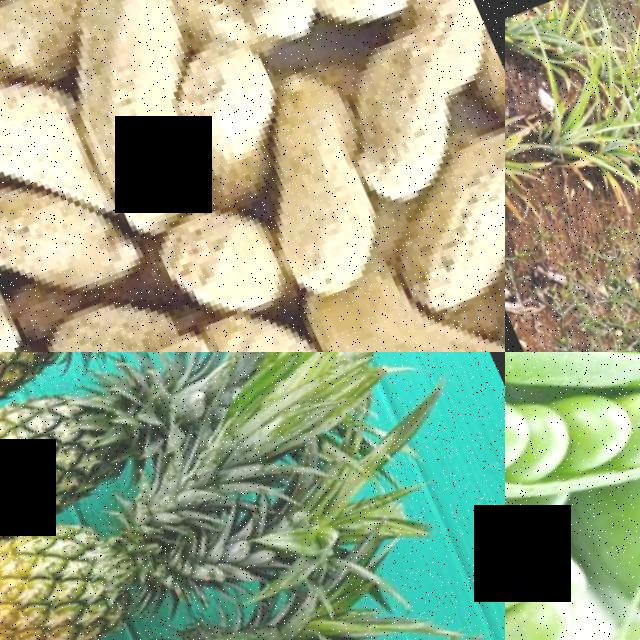peanuts: (218, 69, 411, 301), (312, 14, 479, 201), (366, 140, 505, 316), (0, 159, 137, 323), (42, 0, 209, 130), (150, 179, 296, 322), (162, 20, 299, 165), (299, 245, 475, 352), (200, 284, 351, 352), (171, 0, 322, 54), (260, 0, 424, 38), (0, 140, 39, 284), (482, 273, 505, 352)
peas: (505, 352, 640, 600), (505, 492, 632, 640)
pineapple: (0, 352, 200, 578), (0, 461, 221, 640), (0, 352, 160, 461)
